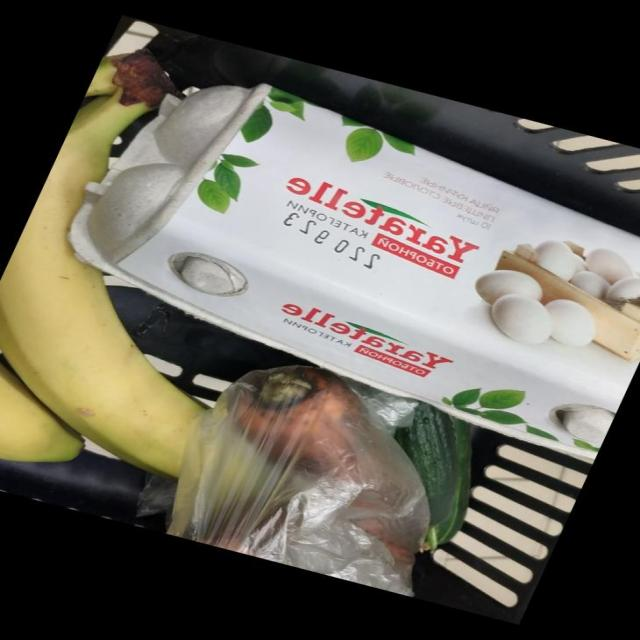Banana: (0, 83, 203, 478), (0, 365, 82, 462)
Carrot: (226, 367, 428, 564)
Cucumber: (393, 403, 456, 528), (429, 418, 471, 546)
Eggs: (69, 85, 640, 459)
